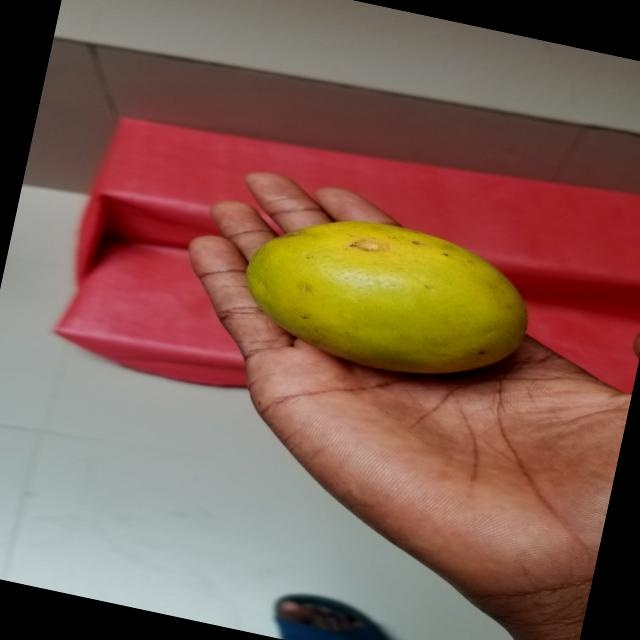agrume: (219, 191, 541, 405)
